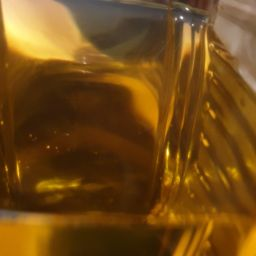Oil: (5, 2, 226, 255)
